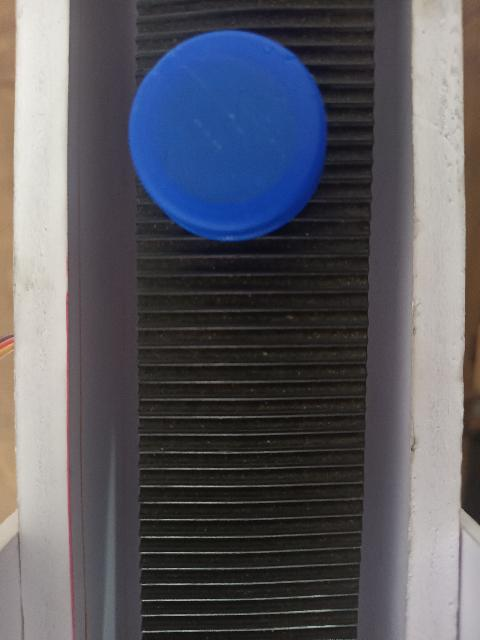bottlecap: (127, 22, 331, 246)
